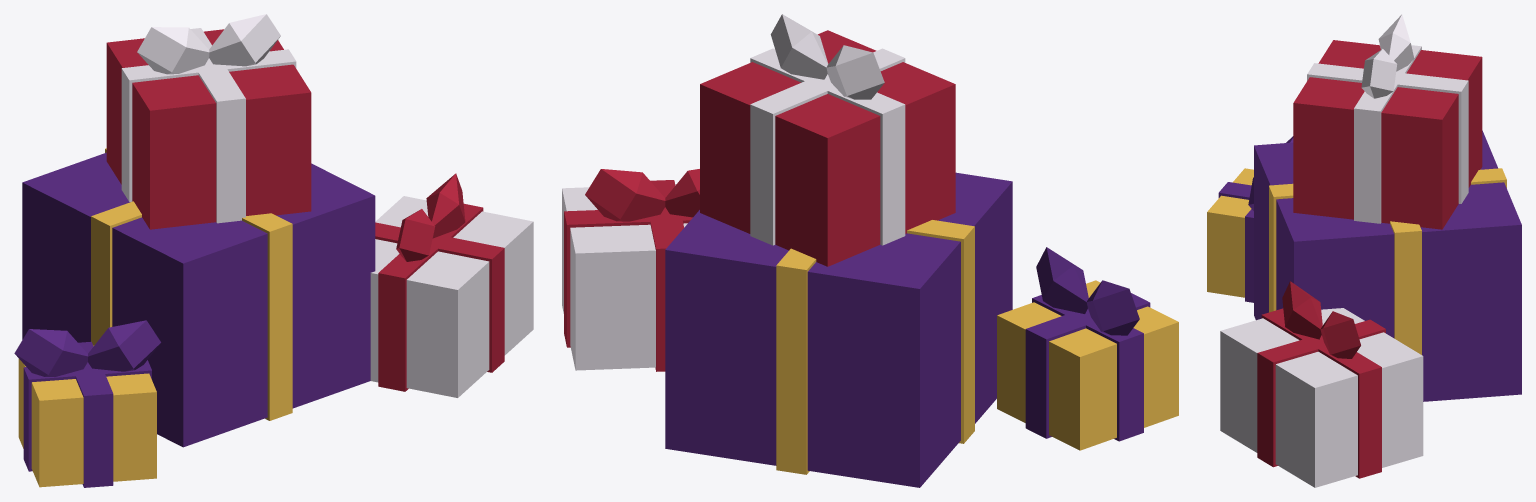
Rendered from gift_boxes.glb.
3 renders of one model, left to right at view 1: azimuth 30°, elevation 25°; view 2: azimuth 150°, elevation 25°; view 3: azimuth 270°, elevation 25°, orthographic. The views are drawn at different scales.
Parts seen in each view (by area): view 1: gift_boxes; view 2: gift_boxes; view 3: gift_boxes.
Part boxes in pixels (bbox=[...]): gift_boxes: bbox=[14, 14, 533, 487]; gift_boxes: bbox=[562, 14, 1178, 487]; gift_boxes: bbox=[1207, 14, 1521, 487].
Size of the model in its own units: 1.03 by 0.652 by 0.5714.
